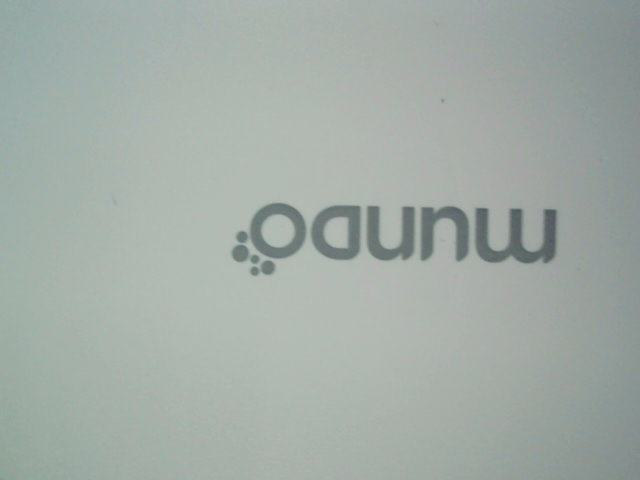BI_MUNDO: (203, 191, 560, 282)
